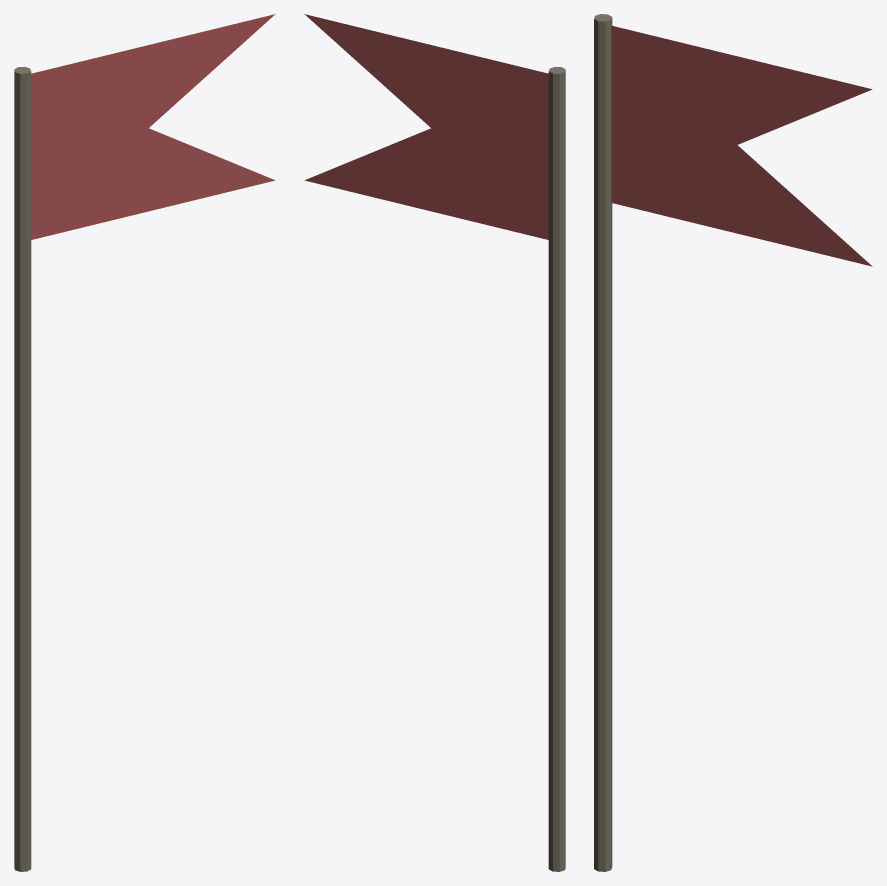
File: FlagPole.fbx
3 views of the same model, side by side, from view 1: azimuth 30°, elevation 25°; view 2: azimuth 150°, elevation 25°; view 3: azimuth 330°, elevation 25° (orthographic). The views are drawn at different scales.
Visible parts, largest first — view 1: pPlane1, pCylinder69; view 2: pPlane1, pCylinder69; view 3: pPlane1, pCylinder69.
Boxes of the visible parts, x1,y1,x2,y2 form: pPlane1: (31,14,275,239); pCylinder69: (14,67,31,871); pPlane1: (304,14,548,239); pCylinder69: (548,67,565,871); pPlane1: (611,25,872,266); pCylinder69: (594,14,612,871).
Size of the model in its own units: 1.03 by 3 by 0.06.
